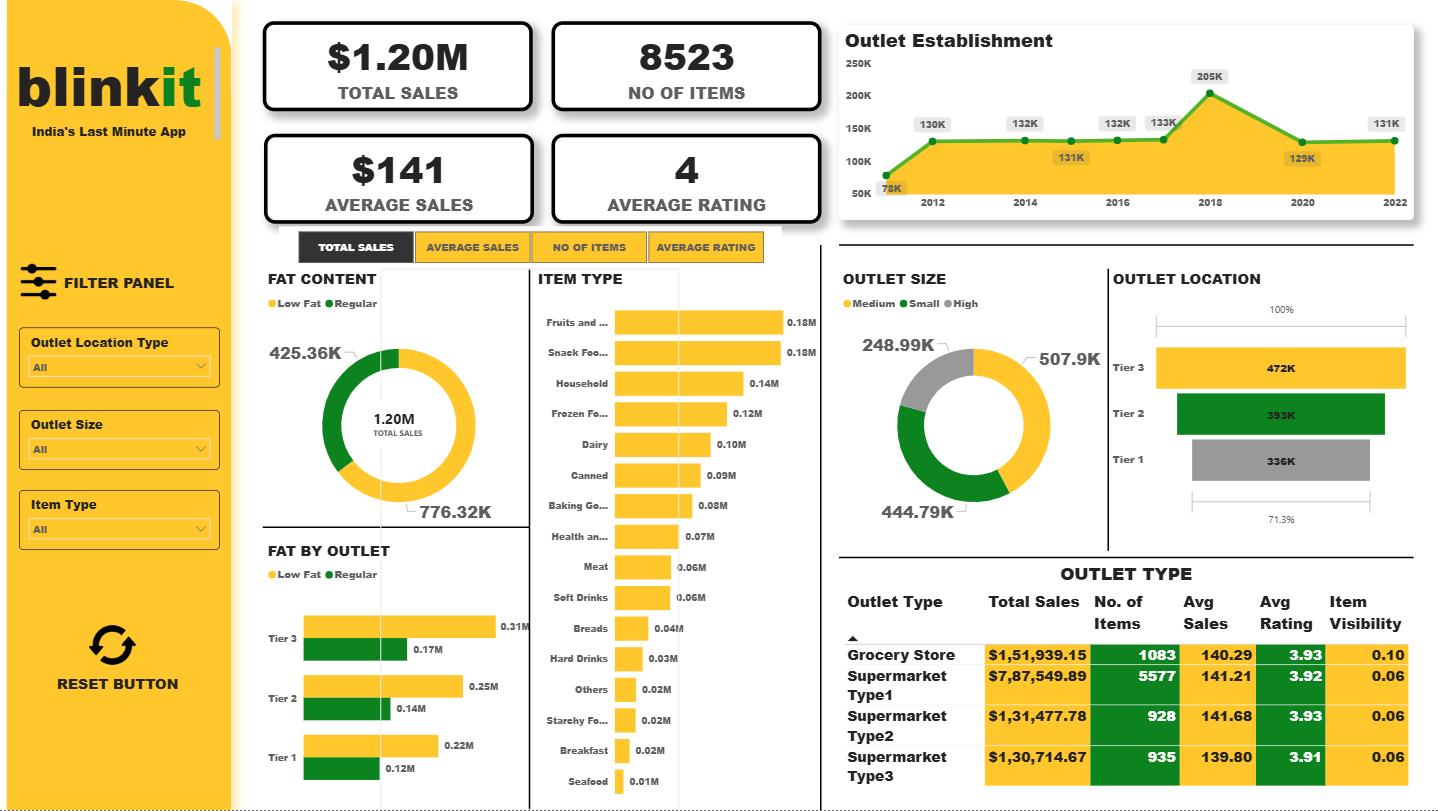

Layout of this report page (visuals, bound fields, positions):
{"tool":"powerbi","page":{"name":"Dashboard","canvas":[1920,1080],"ordinal":0},"visuals":[{"type":"shape","box":[10,0,300,1080],"z":0},{"type":"textbox","box":[0,58,300,142],"z":1000},{"type":"card","fields":{"Values":["BlinkIT Grocery Data.Total_Sales"]},"box":[352,28,360,120],"z":2000},{"type":"card","fields":{"Values":["BlinkIT Grocery Data.No_of_Items"]},"box":[736,28,360,120],"z":3000},{"type":"card","fields":{"Values":["BlinkIT Grocery Data.Average_Sales"]},"box":[354,178,360,120],"z":4000},{"type":"card","fields":{"Values":["BlinkIT Grocery Data.Average_Rating"]},"box":[736,178,360,120],"z":5000},{"type":"areaChart","title":"Outlet Establishment ","fields":{"Y":["BlinkIT Grocery Data.TOTAL SALES"],"Category":["BlinkIT Grocery Data.Outlet Establishment Year"]},"box":[1120,34,766,260],"z":6000},{"type":"donutChart","title":"FAT CONTENT","fields":{"Y":["BlinkIT Grocery Data.TOTAL SALES"],"Category":["BlinkIT Grocery Data.Item Fat Content"]},"box":[354,358,360,362],"z":7000},{"type":"barChart","title":"ITEM TYPE","fields":{"Y":["BlinkIT Grocery Data.TOTAL SALES"],"Category":["BlinkIT Grocery Data.Item Type"]},"box":[714,358,382,722],"z":8000},{"type":"donutChart","title":"OUTLET SIZE","fields":{"Y":["BlinkIT Grocery Data.TOTAL SALES"],"Category":["BlinkIT Grocery Data.Outlet Size"]},"box":[1120,358,360,362],"z":9000},{"type":"clusteredBarChart","title":"FAT BY OUTLET ","fields":{"Y":["BlinkIT Grocery Data.TOTAL SALES"],"Category":["BlinkIT Grocery Data.Outlet Location Type"],"Series":["BlinkIT Grocery Data.Item Fat Content"]},"box":[354,720,360,360],"z":10000},{"type":"funnel","title":"OUTLET LOCATION","fields":{"Y":["BlinkIT Grocery Data.TOTAL SALES"],"Category":["BlinkIT Grocery Data.Outlet Location Type"]},"box":[1480,358,406,360],"z":11000},{"type":"tableEx","title":"OUTLET TYPE","fields":{"Values":["BlinkIT Grocery Data.Outlet Type","Sum(BlinkIT Grocery Data.Sales)","BlinkIT Grocery Data.NO OF ITEMS","BlinkIT Grocery Data.AVERAGE SALES","BlinkIT Grocery Data.AVERAGE RATING","Avg(BlinkIT Grocery Data.Item Visibility)"]},"box":[1120,748,766,304],"z":12000},{"type":"slicer","fields":{"Values":["BlinkIT Grocery Data.Outlet Location Type"]},"box":[26,436,268,80],"z":13000},{"type":"slicer","fields":{"Values":["BlinkIT Grocery Data.Outlet Size"]},"box":[26,546,268,80],"z":14000},{"type":"slicer","fields":{"Values":["BlinkIT Grocery Data.Item Type"]},"box":[26,654,268,80],"z":15000},{"type":"shape","box":[352,540,356,326],"z":16000},{"type":"shape","box":[1120,176,766,300],"z":17000},{"type":"shape","box":[1120,594,766,300],"z":18000},{"type":"shape","box":[1280,358,398,376],"z":19000},{"type":"shape","box":[896,326,398,754],"z":20000},{"type":"shape","box":[508,358,398,722],"z":21000},{"type":"textbox","box":[10,358,300,46],"z":22000},{"type":"image","box":[120,820,62,80],"z":23000},{"type":"image","box":[26,278,52,194],"z":24000},{"type":"slicer","fields":{"Values":["Parameter.Parameter"]},"box":[374,302,670,56],"z":25000},{"type":"cardVisual","fields":{"Data":["BlinkIT Grocery Data.TOTAL SALES"]},"box":[470,528,126,74],"z":26000},{"type":"textbox","box":[8,894,300,46],"z":27000}]}

Visuals, with their boxes in screenshot pixels (x1, y1, x2, y2), scaled from the page's 1920x1080 canvas onto the 1438x811 screenshot:
shape: BBox(7, 0, 232, 810)
textbox: BBox(0, 44, 225, 150)
card - BlinkIT Grocery Data.Total_Sales: BBox(264, 21, 533, 111)
card - BlinkIT Grocery Data.No_of_Items: BBox(551, 21, 821, 111)
card - BlinkIT Grocery Data.Average_Sales: BBox(265, 134, 535, 224)
card - BlinkIT Grocery Data.Average_Rating: BBox(551, 134, 821, 224)
"Outlet Establishment " areaChart: BBox(839, 26, 1413, 221)
"FAT CONTENT" donutChart: BBox(265, 269, 535, 541)
"ITEM TYPE" barChart: BBox(535, 269, 821, 810)
"OUTLET SIZE" donutChart: BBox(839, 269, 1108, 541)
"FAT BY OUTLET " clusteredBarChart: BBox(265, 541, 535, 810)
"OUTLET LOCATION" funnel: BBox(1108, 269, 1413, 539)
"OUTLET TYPE" tableEx: BBox(839, 562, 1413, 790)
slicer - BlinkIT Grocery Data.Outlet Location Type: BBox(19, 327, 220, 387)
slicer - BlinkIT Grocery Data.Outlet Size: BBox(19, 410, 220, 470)
slicer - BlinkIT Grocery Data.Item Type: BBox(19, 491, 220, 551)
shape: BBox(264, 406, 530, 650)
shape: BBox(839, 132, 1413, 357)
shape: BBox(839, 446, 1413, 671)
shape: BBox(959, 269, 1257, 551)
shape: BBox(671, 245, 969, 810)
shape: BBox(380, 269, 679, 810)
textbox: BBox(7, 269, 232, 303)
image: BBox(90, 616, 136, 676)
image: BBox(19, 209, 58, 354)
slicer - Parameter.Parameter: BBox(280, 227, 782, 269)
cardVisual - BlinkIT Grocery Data.TOTAL SALES: BBox(352, 396, 446, 452)
textbox: BBox(6, 671, 231, 706)
